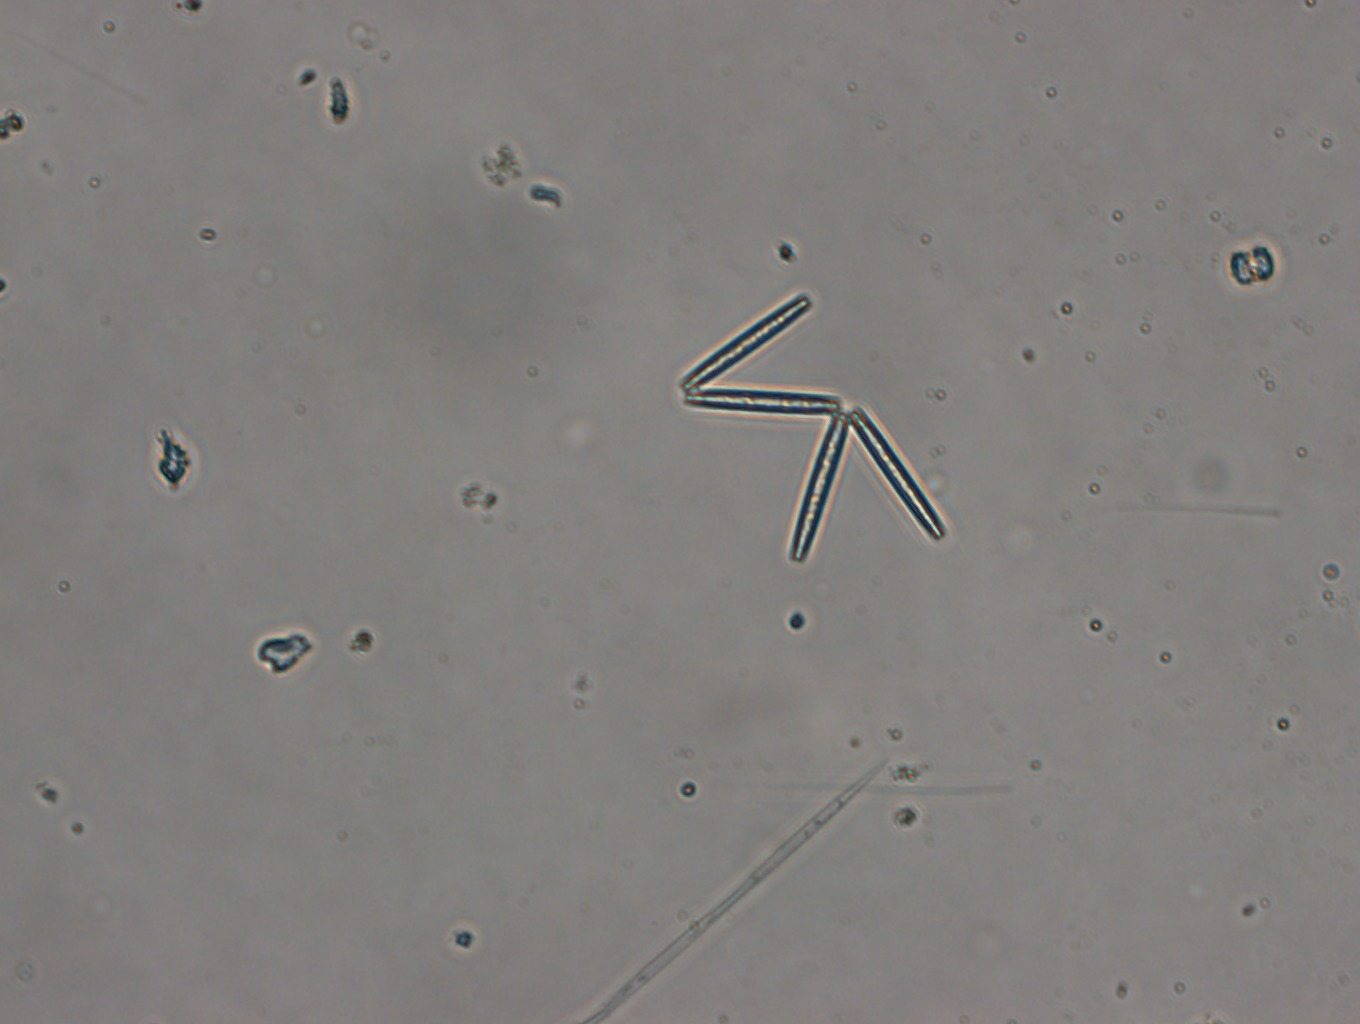thalassionema nitzschioides: (677, 290, 947, 565)
